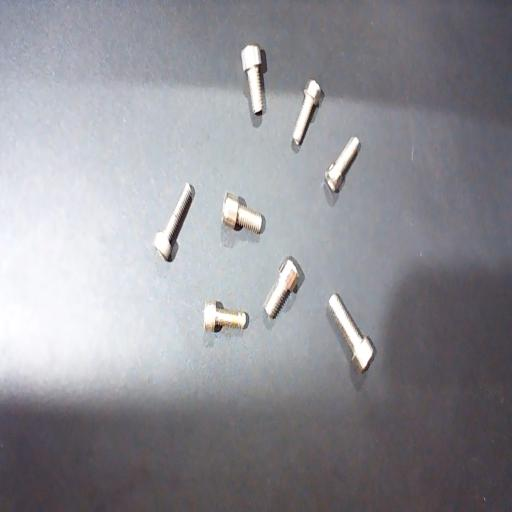screw: (328, 293, 375, 375), (154, 182, 194, 262), (264, 258, 300, 320), (324, 136, 360, 194), (292, 79, 322, 146), (220, 192, 262, 235), (241, 44, 264, 115), (203, 299, 247, 333)
